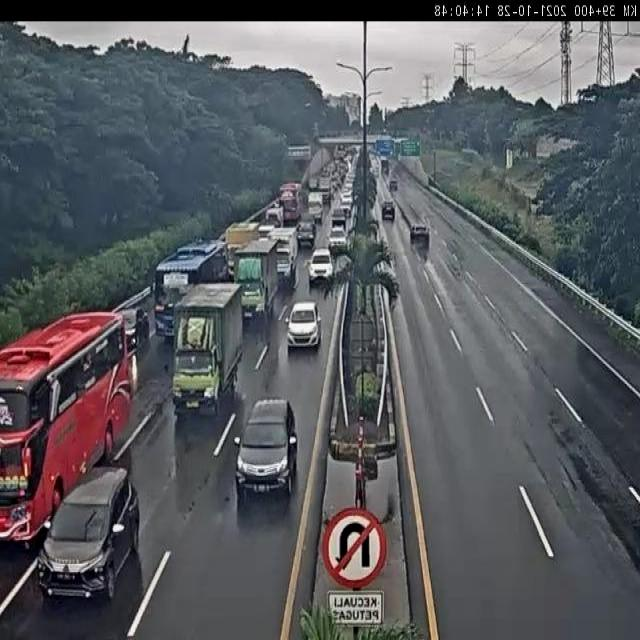Car: (39, 466, 143, 601), (226, 371, 308, 528), (286, 300, 321, 350), (297, 218, 316, 249), (410, 223, 429, 245), (381, 201, 395, 220)
Truck: (170, 282, 246, 416), (154, 239, 228, 335), (235, 235, 288, 328), (348, 290, 381, 387), (335, 273, 356, 396), (225, 223, 263, 279), (268, 226, 300, 288), (118, 307, 148, 354), (154, 286, 176, 340), (308, 250, 334, 284), (342, 202, 359, 240), (289, 145, 312, 172), (333, 252, 353, 282), (328, 223, 348, 253), (307, 192, 324, 222), (356, 278, 369, 317), (375, 436, 396, 460), (340, 159, 354, 194), (412, 237, 430, 263), (280, 182, 301, 204), (265, 205, 284, 229), (282, 200, 300, 225), (362, 453, 378, 481), (213, 238, 228, 266), (521, 136, 538, 160), (330, 168, 344, 196), (331, 209, 347, 232), (393, 138, 409, 158), (256, 237, 276, 253), (320, 278, 334, 300), (257, 223, 276, 239), (319, 177, 332, 200), (299, 213, 315, 231), (336, 203, 351, 221), (529, 199, 543, 218), (340, 190, 352, 212), (367, 222, 379, 244), (346, 146, 359, 166), (218, 262, 231, 282), (375, 140, 393, 154), (368, 192, 378, 216), (226, 253, 236, 277), (461, 148, 481, 160), (354, 149, 365, 170), (370, 155, 380, 178), (266, 200, 282, 214), (366, 143, 379, 160), (322, 164, 332, 184), (335, 145, 346, 163), (308, 176, 320, 192), (450, 252, 460, 270), (343, 156, 352, 174), (368, 212, 376, 232), (506, 148, 513, 170), (452, 265, 462, 280), (350, 113, 360, 128), (582, 93, 596, 103), (428, 174, 438, 187), (218, 232, 228, 245), (382, 158, 389, 176), (390, 255, 397, 273), (154, 302, 164, 314), (537, 152, 551, 160), (312, 134, 322, 145), (302, 146, 312, 157), (313, 122, 319, 140), (390, 179, 398, 191), (393, 138, 403, 146), (382, 128, 388, 134)
